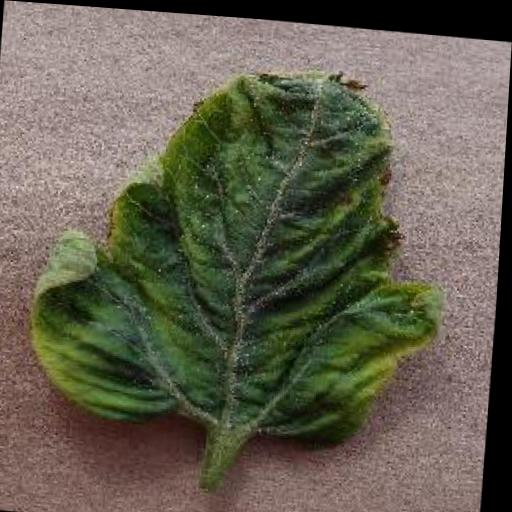Yellow Leaf Curl Virus: (26, 42, 461, 451)
